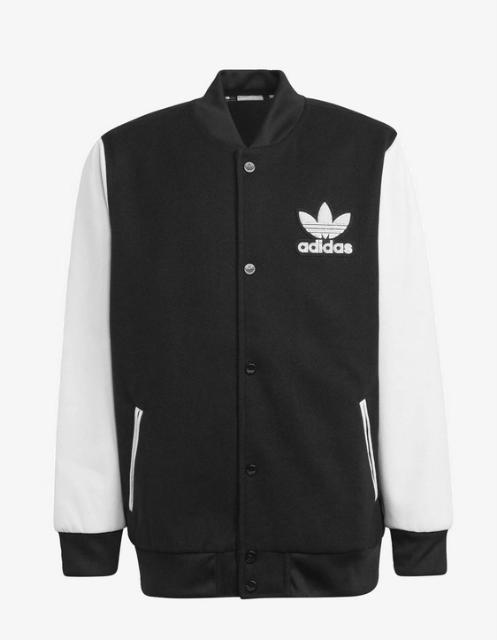Adidas: (295, 194, 355, 256), (295, 194, 355, 242), (295, 241, 355, 257)
